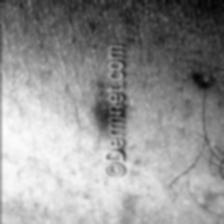Non-Cancerous Skin Condition: (90, 82, 132, 132)
